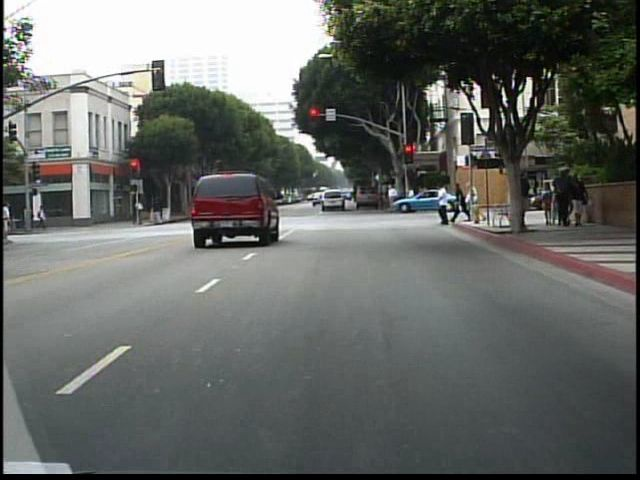person: (535, 181, 557, 229), (513, 171, 531, 227), (434, 183, 456, 227), (464, 180, 481, 228), (189, 186, 207, 227), (384, 179, 402, 217), (454, 181, 469, 223), (34, 199, 50, 236), (406, 182, 419, 216), (135, 196, 147, 226)
